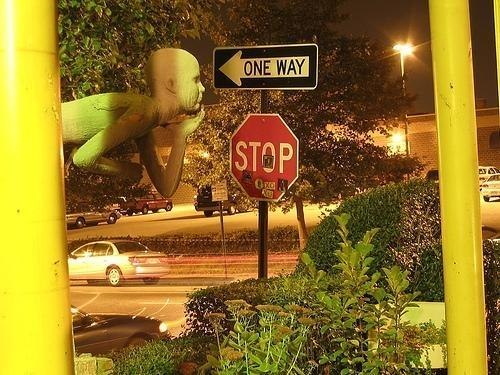car: (71, 305, 176, 356), (68, 239, 172, 286), (66, 201, 122, 230), (196, 186, 236, 216), (479, 166, 500, 190)
truck: (120, 190, 174, 216)
